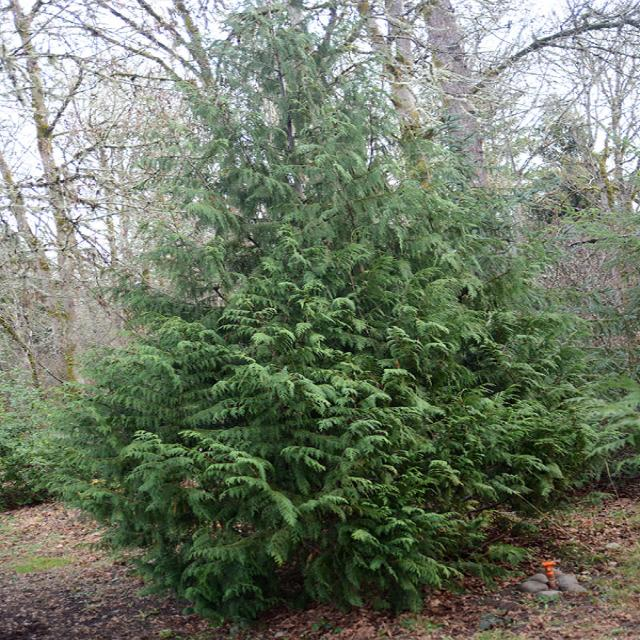Callitropsis nootkatensis: (73, 2, 588, 630)
